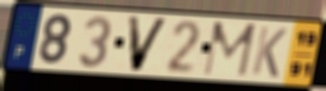2: (166, 19, 202, 76)
3: (77, 13, 113, 70)
8: (38, 12, 72, 66)
K: (249, 24, 289, 80)
M: (200, 20, 259, 79)
V: (126, 14, 172, 74)
